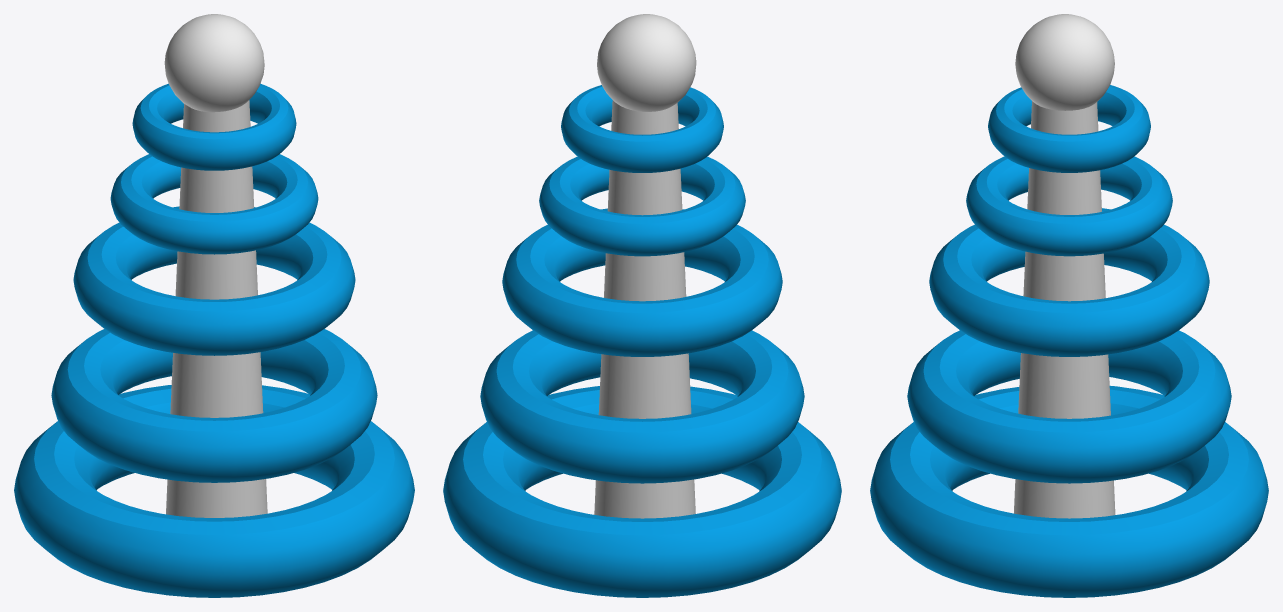
Rendered from lightningstrike.fbx.
3 renders of one model, left to right at view 1: azimuth 30°, elevation 25°; view 2: azimuth 150°, elevation 25°; view 3: azimuth 270°, elevation 25°, orthographic.
Visible parts, largest first — view 1: Cylinder.014; view 2: Cylinder.014; view 3: Cylinder.014.
Boxes of the visible parts, left/top/right/bottom form: Cylinder.014: left=14, top=14, right=414, bottom=597; Cylinder.014: left=443, top=14, right=841, bottom=597; Cylinder.014: left=870, top=14, right=1268, bottom=597.
Size of the model in its own units: 50.11 by 75.9 by 50.11.
